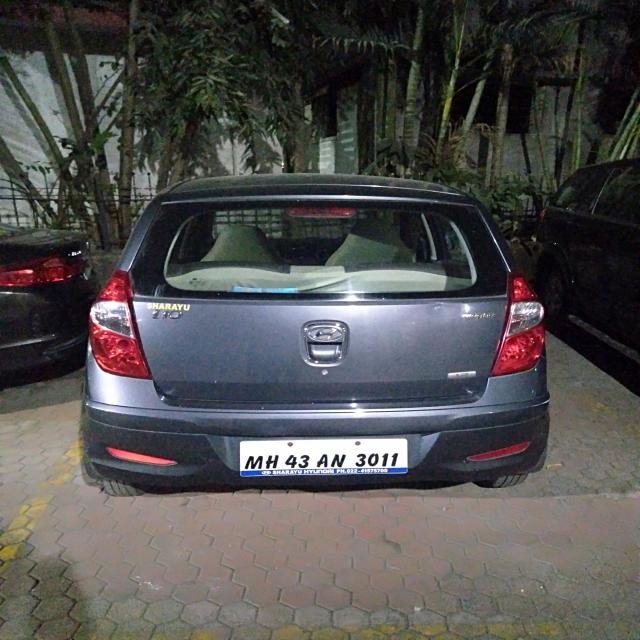Number-Plate: (239, 440, 408, 476)
